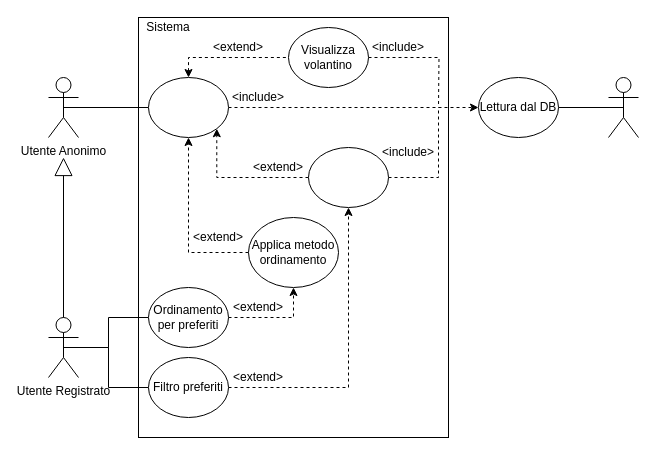
Some shapes in this 664 by 455 pixel diagram are drawn without their labels. Each missing label, with the box of its shape:
Applica filtro ricerca: (308, 146, 388, 208)
Apri lista volantini: (148, 76, 228, 138)
MariaDB: (608, 76, 638, 138)
